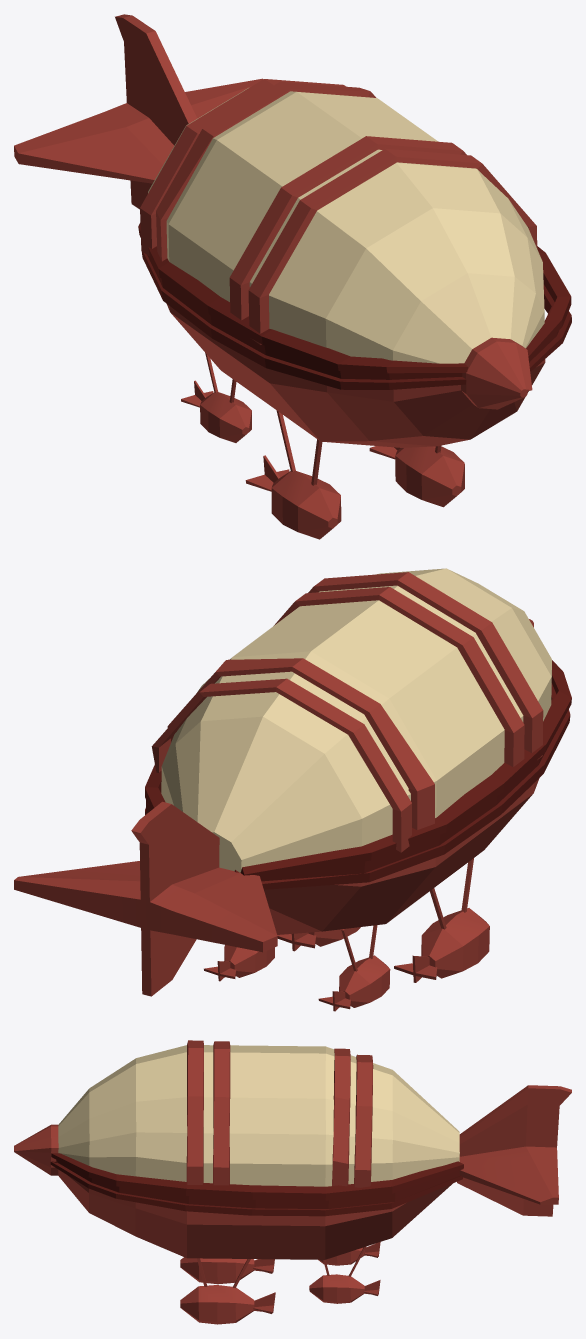
File: globo2.fbx
3 views of the same model, one above another, from view 1: azimuth 30°, elevation 25°; view 2: azimuth 150°, elevation 25°; view 3: azimuth 270°, elevation 25° (orthographic). The views are drawn at different scales.
Parts seen in each view (by area): view 1: Cylinder.001, Cube.004, Cylinder.004, Cylinder.005, Cylinder.006, Cube.002, Cylinder.008, Cube, Cylinder.007, Cylinder.003, Cube.003; view 2: Cylinder.001, Cube.004, Cylinder.004, Cylinder.007, Cylinder.008, Cylinder.006, Cylinder.005, Cube.002, Cube.003, Cube.001, Cube, Cylinder.003; view 3: Cylinder.001, Cylinder.003, Cube.004, Cube, Cylinder.006, Cylinder.005, Cylinder.008, Cylinder.007, Cube.002, Cube.001, Cube.003.
Boxes of the visible parts, left/top/right/bottom form: Cylinder.001: left=148, top=88, right=545, bottom=447; Cube.004: left=14, top=14, right=262, bottom=209; Cylinder.004: left=138, top=223, right=468, bottom=389; Cylinder.005: left=248, top=148, right=537, bottom=344; Cylinder.006: left=229, top=136, right=466, bottom=320; Cube.002: left=245, top=410, right=341, bottom=539; Cylinder.008: left=156, top=81, right=376, bottom=261; Cube: left=369, top=445, right=464, bottom=507; Cylinder.007: left=140, top=79, right=345, bottom=256; Cylinder.003: left=526, top=246, right=571, bottom=371; Cube.003: left=181, top=353, right=251, bottom=442; Cylinder.001: left=161, top=568, right=551, bottom=934; Cube.004: left=14, top=801, right=277, bottom=996; Cylinder.004: left=234, top=660, right=571, bottom=889; Cylinder.007: left=151, top=678, right=411, bottom=852; Cylinder.008: left=167, top=658, right=434, bottom=830; Cylinder.006: left=274, top=587, right=524, bottom=766; Cylinder.005: left=308, top=572, right=543, bottom=759; Cube.002: left=394, top=858, right=489, bottom=982; Cube.003: left=318, top=925, right=390, bottom=1011; Cube.001: left=204, top=945, right=274, bottom=981; Cube: left=277, top=927, right=360, bottom=951; Cylinder.003: left=145, top=764, right=165, bottom=814; Cylinder.001: left=14, top=1045, right=459, bottom=1259; Cylinder.003: left=50, top=1153, right=463, bottom=1216; Cube.004: left=457, top=1085, right=571, bottom=1216; Cube: left=180, top=1258, right=275, bottom=1324; Cylinder.006: left=213, top=1041, right=230, bottom=1185; Cylinder.005: left=186, top=1040, right=203, bottom=1184; Cylinder.008: left=332, top=1048, right=350, bottom=1186; Cylinder.007: left=354, top=1054, right=373, bottom=1187; Cube.002: left=180, top=1257, right=274, bottom=1284; Cube.001: left=309, top=1246, right=380, bottom=1303; Cube.003: left=318, top=1242, right=380, bottom=1265.
Bounding box in the file's own units: 233 × 281 × 548.
